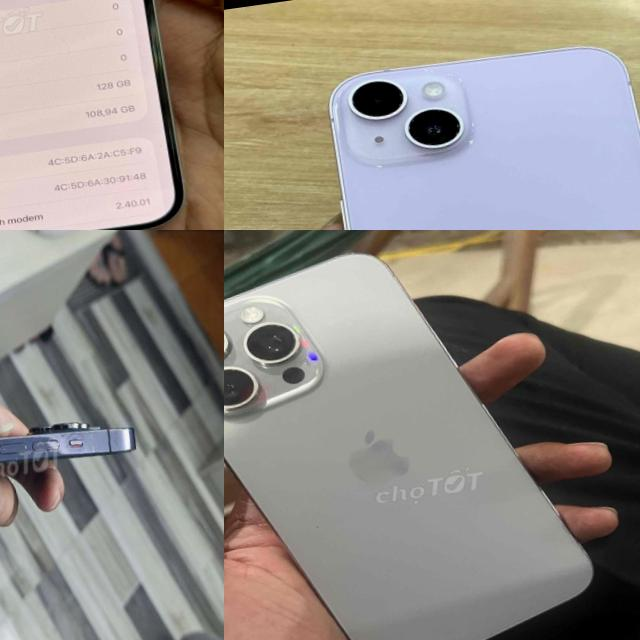gen_14: (315, 21, 640, 230), (0, 389, 168, 530)
gen_15: (224, 230, 626, 640)
gen_16: (0, 0, 197, 230)
